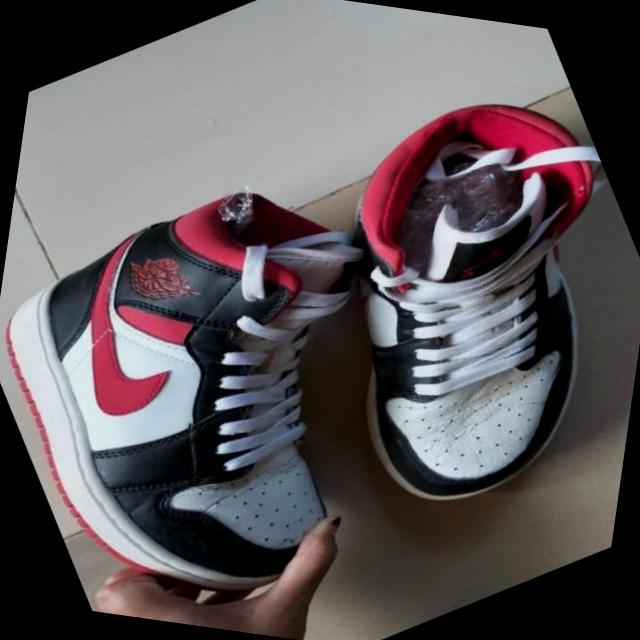nike_fake_jordan: (0, 114, 515, 640), (223, 32, 640, 556)
